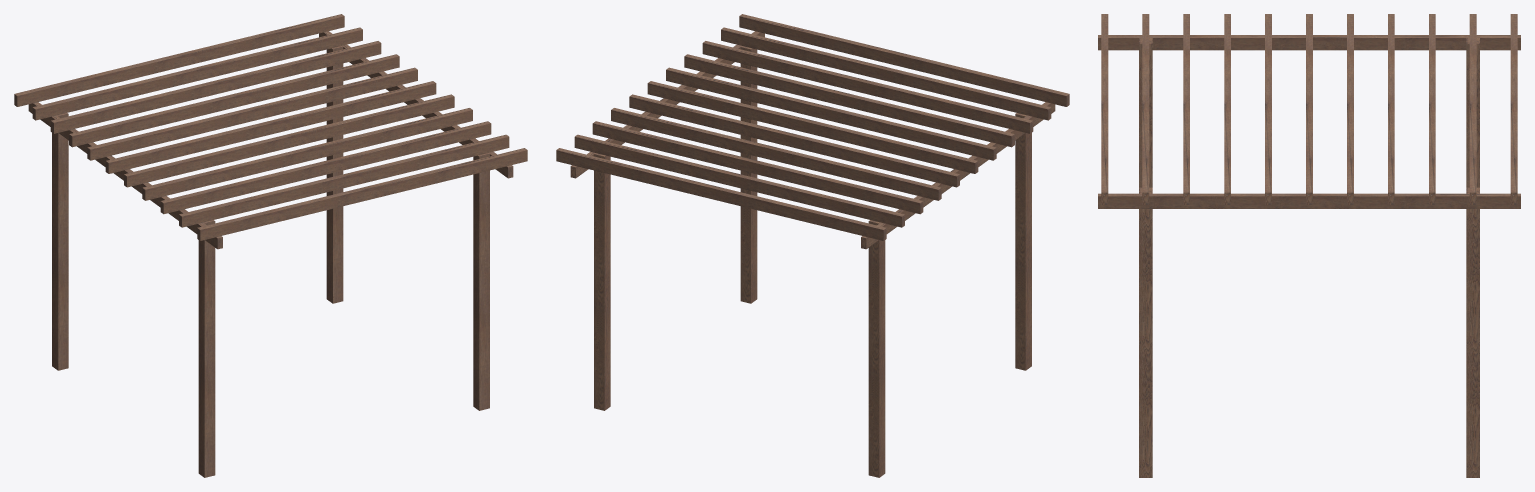
File: picnit_gazibo_1.glb
3 views of the same model, side by side, from view 1: azimuth 30°, elevation 25°; view 2: azimuth 150°, elevation 25°; view 3: azimuth 270°, elevation 25° (orthographic). The views are drawn at different scales.
Parts seen in each view (by area): view 1: Component_12_11, Component_12_8, Component_12_5, Component_12_10, Component_12_12, Component_12_15, Component_12_14, Component_12_3, Component_12_13, Component_12_4, Component_12_7, Component_13_7 (+5 smaller); view 2: Component_12_11, Component_12_8, Component_12_5, Component_12_12, Component_12_15, Component_12_3, Component_12_10, Component_12_13, Component_12_14, Component_12_4, Component_12_7, Component_13_5 (+5 smaller); view 3: Component_12_9, Component_12_6, Component_13_4, Component_13_6, Component_12_10, Component_12_3, Component_12_4, Component_12_7, Component_12_11, Component_12_12, Component_12_13, Component_12_14 (+5 smaller).
Part boxes in pixels (x1,y1,x2,y2): Component_12_11: [160, 121, 491, 214]; Component_12_8: [50, 41, 381, 133]; Component_12_5: [105, 81, 436, 173]; Component_12_10: [32, 27, 362, 120]; Component_12_12: [142, 108, 472, 200]; Component_12_15: [69, 54, 399, 147]; Component_12_14: [87, 67, 417, 160]; Component_12_3: [179, 134, 509, 227]; Component_12_13: [124, 94, 454, 187]; Component_12_4: [197, 148, 527, 240]; Component_12_7: [14, 14, 344, 106]; Component_13_7: [198, 220, 215, 477]; Component_12_11: [702, 41, 1033, 133]; Component_12_8: [592, 121, 923, 214]; Component_12_5: [647, 81, 978, 173]; Component_12_12: [684, 54, 1014, 147]; Component_12_15: [611, 108, 941, 200]; Component_12_3: [721, 27, 1051, 120]; Component_12_10: [574, 134, 904, 227]; Component_12_13: [666, 67, 996, 160]; Component_12_14: [629, 94, 959, 187]; Component_12_4: [739, 14, 1069, 106]; Component_12_7: [556, 148, 886, 240]; Component_13_5: [868, 220, 885, 477]; Component_12_9: [1098, 193, 1520, 208]; Component_12_6: [1098, 35, 1520, 50]; Component_13_4: [1139, 187, 1152, 477]; Component_13_6: [1466, 187, 1479, 477]; Component_12_10: [1469, 14, 1476, 204]; Component_12_3: [1142, 14, 1149, 204]; Component_12_4: [1101, 14, 1108, 204]; Component_12_7: [1510, 14, 1517, 204]; Component_12_11: [1183, 14, 1189, 204]; Component_12_12: [1224, 14, 1230, 204]; Component_12_13: [1265, 14, 1271, 204]; Component_12_14: [1347, 14, 1353, 204].
Size of the model in its own units: 3.1 by 2.4 by 3.1.
1 material, 1 textured.
